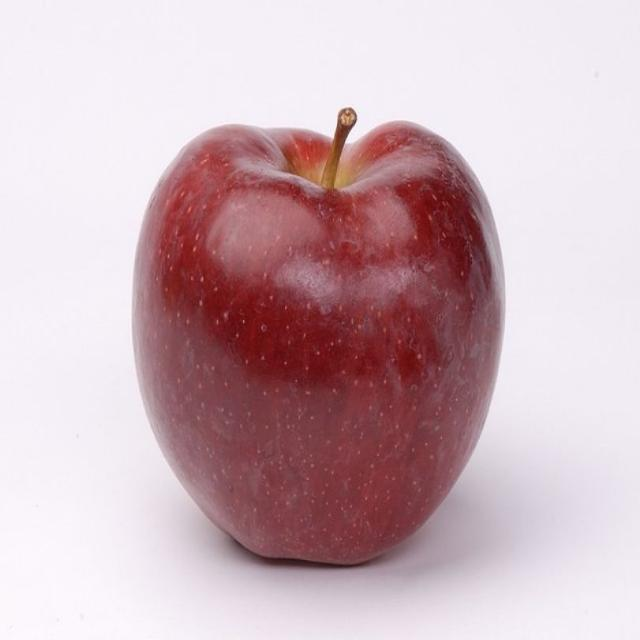Healty Apple: (125, 72, 530, 588)
